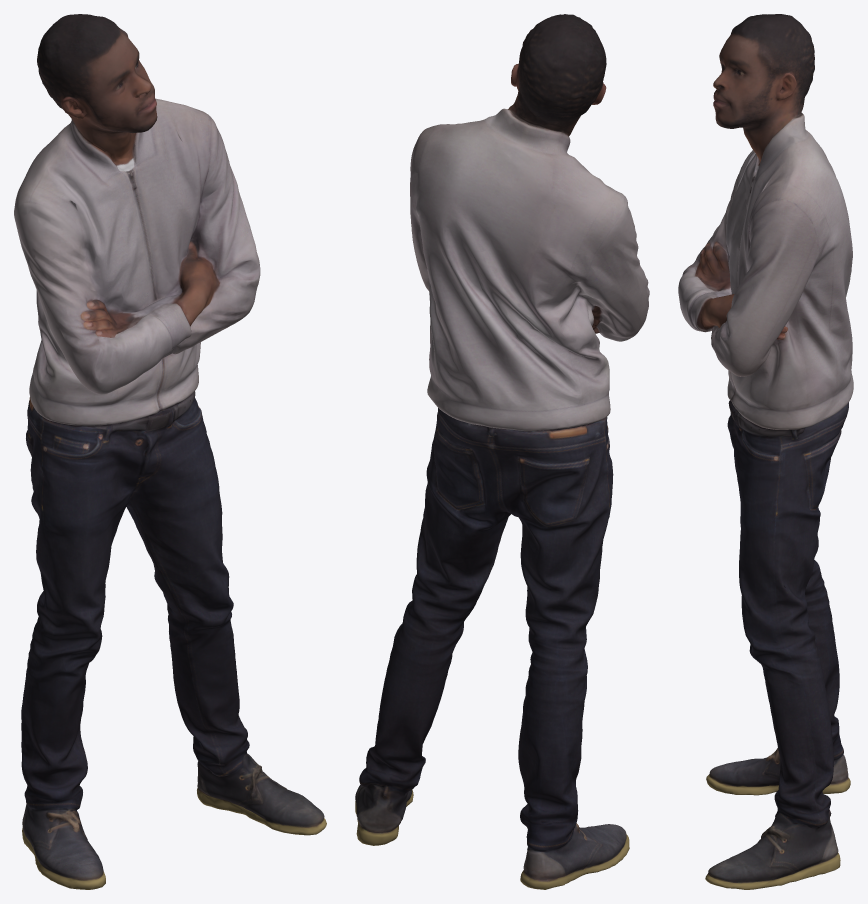
Rendered from m-productx.glb.
3 renders of one model, left to right at view 1: azimuth 30°, elevation 25°; view 2: azimuth 150°, elevation 25°; view 3: azimuth 270°, elevation 25°, orthographic. The views are drawn at different scales.
Parts seen in each view (by area): view 1: Cas_Sum_Man_RtStand_366; view 2: Cas_Sum_Man_RtStand_366; view 3: Cas_Sum_Man_RtStand_366.
Part boxes in pixels (x1,y1,x2,y2): Cas_Sum_Man_RtStand_366: [14, 14, 326, 889]; Cas_Sum_Man_RtStand_366: [355, 14, 649, 889]; Cas_Sum_Man_RtStand_366: [678, 14, 853, 889].
Size of the model in its own units: 0.615 by 1.76 by 0.3594.
Materials: 1 (1 with a texture image).
